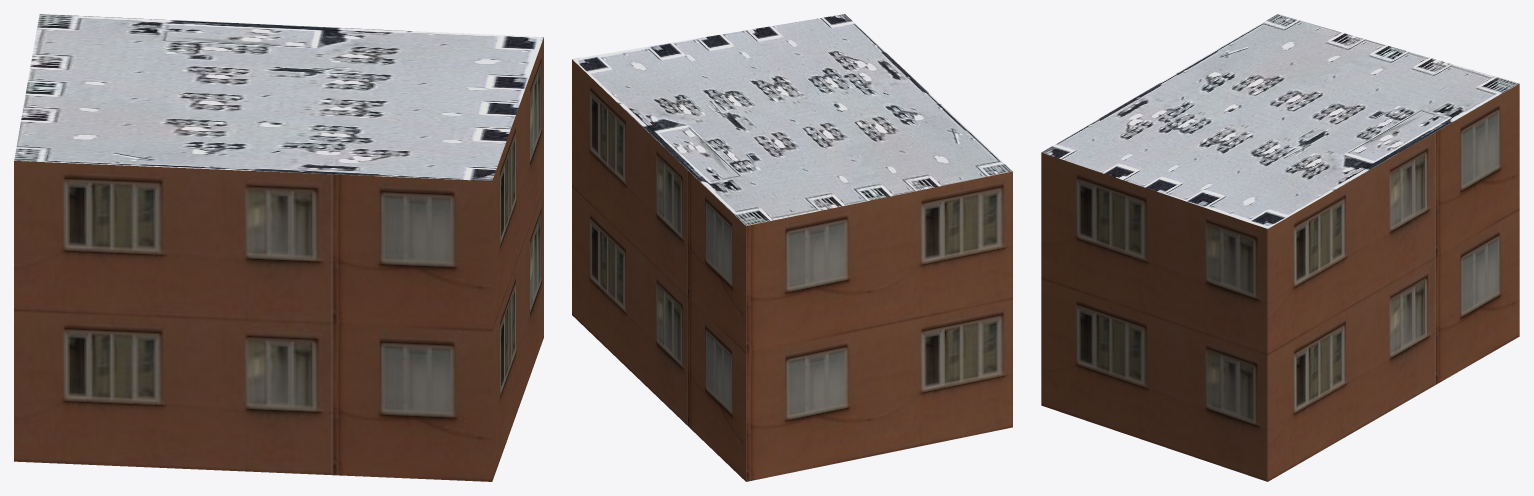
Rendered from ResTex__3234.fbx.
The picture shows the model from 3 angles, left to right: view 1: azimuth 30°, elevation 25°; view 2: azimuth 150°, elevation 25°; view 3: azimuth 270°, elevation 25°; orthographic projection. The views are drawn at different scales.
Parts seen in each view (by area): view 1: CityEngineMaterial_20_m, CityEngineMaterial_8_m; view 2: CityEngineMaterial_20_m, CityEngineMaterial_8_m; view 3: CityEngineMaterial_20_m, CityEngineMaterial_8_m.
Boxes of the visible parts, x1,y1,x2,y2 form: CityEngineMaterial_20_m: (14, 37, 543, 481); CityEngineMaterial_8_m: (14, 14, 543, 181); CityEngineMaterial_20_m: (572, 59, 1012, 481); CityEngineMaterial_8_m: (572, 14, 1012, 225); CityEngineMaterial_20_m: (1041, 84, 1519, 481); CityEngineMaterial_8_m: (1041, 14, 1519, 228).
Size of the model in its own units: 10.94 by 6 by 10.29.
Materials: 2 (2 with a texture image).
